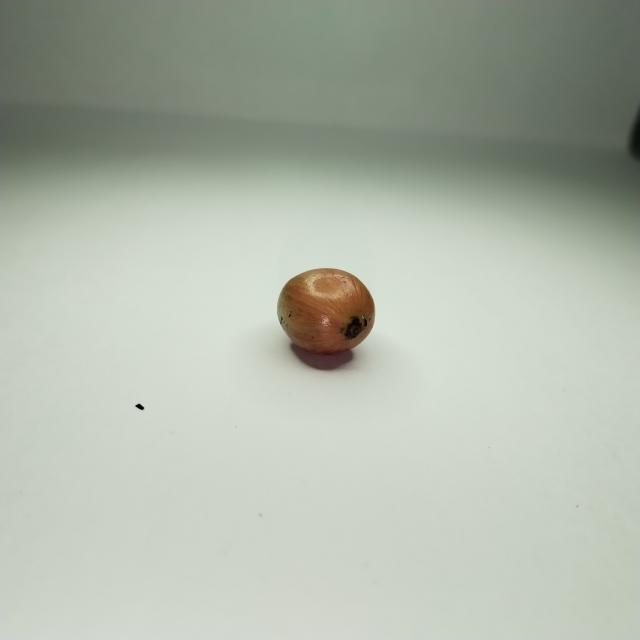Infectado: (277, 268, 376, 354)
